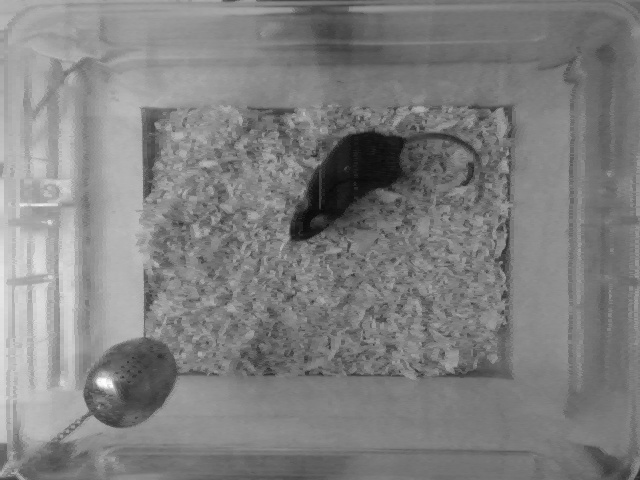mice: (284, 129, 486, 249)
